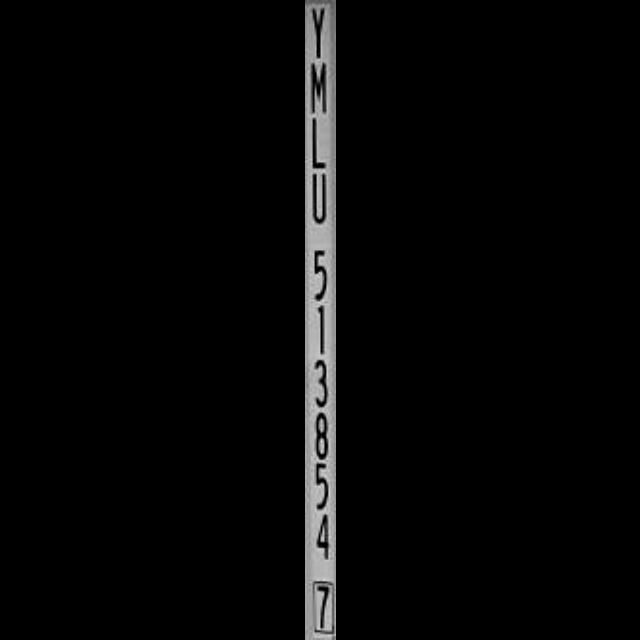1: (304, 299, 336, 359)
3: (304, 360, 336, 412)
4: (304, 512, 336, 562)
5: (304, 244, 336, 304), (304, 460, 336, 512)
7: (304, 578, 336, 638)
8: (304, 408, 336, 458)
l: (304, 114, 336, 170)
m: (304, 55, 336, 115)
u: (304, 168, 336, 226)
y: (304, 0, 336, 58)
